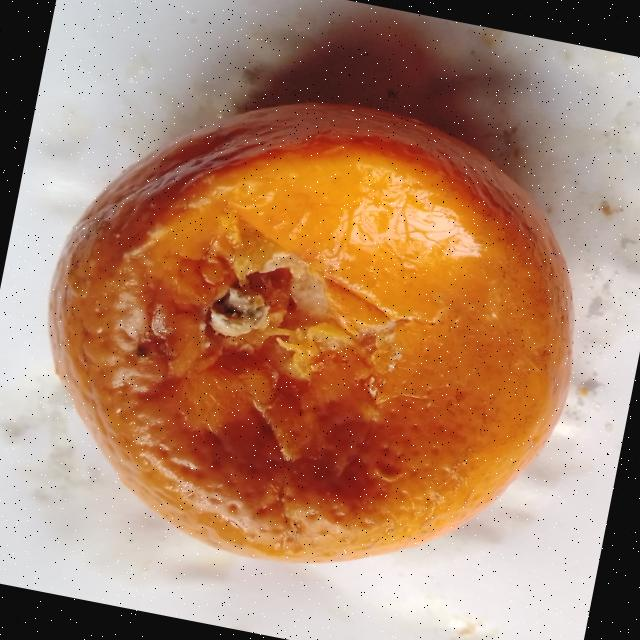Rotten: (3, 46, 620, 612)
